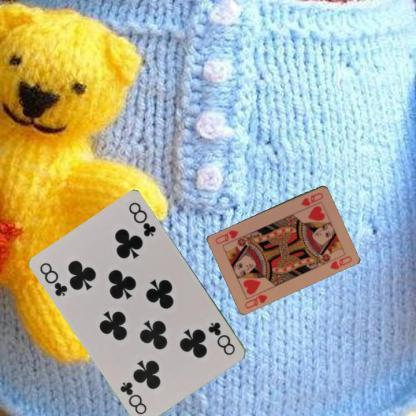8c: (36, 260, 70, 298), (206, 319, 237, 357)
Qh: (298, 190, 325, 208), (242, 292, 269, 310)
